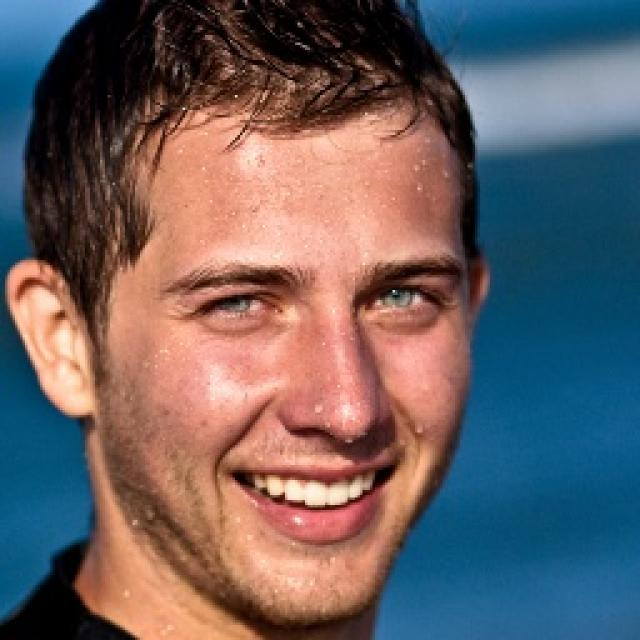earlobe: (53, 362, 99, 422)
eye: (360, 281, 440, 320), (195, 291, 285, 324)
nose: (280, 416, 406, 481)
wholeear: (4, 258, 100, 422)
